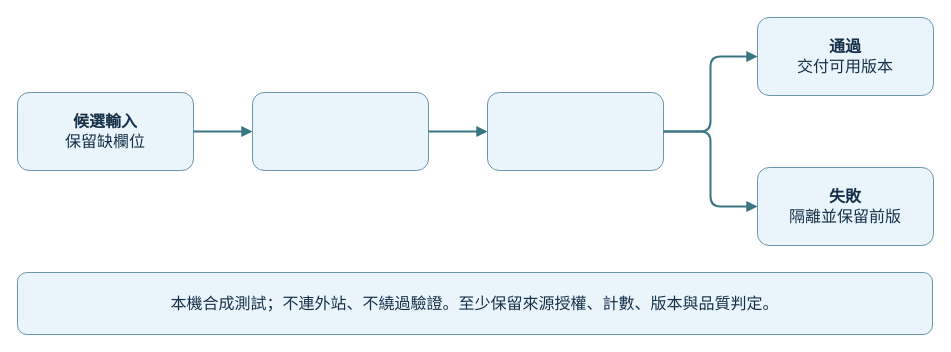
The diagram is 951 pixels wide and 352 high, and some of its shapes have lost their labels. Here are the shapes that lost their labels. From the top down, the centre of each, then its label:
At pixel 340 131: "驗證契約 型別、主鍵、單位與範圍".
At pixel 575 131: "品質閘門 有有效資料且無錯誤？".
